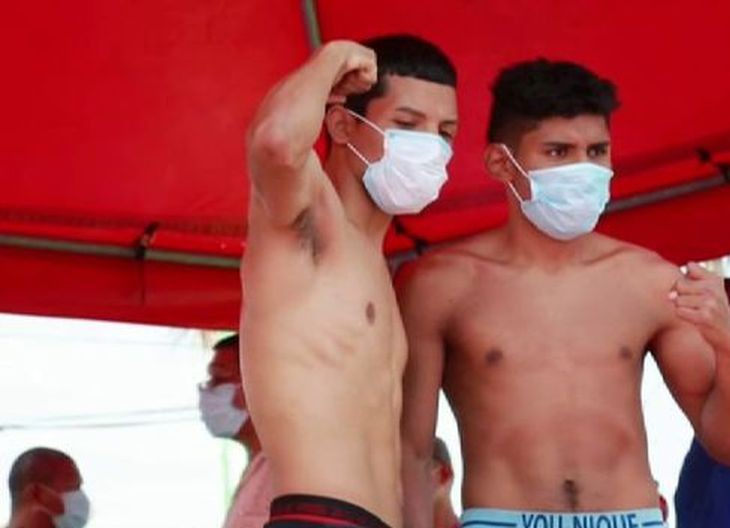with_mask: (491, 91, 629, 242), (352, 53, 469, 222), (194, 334, 268, 459), (3, 447, 99, 528)
